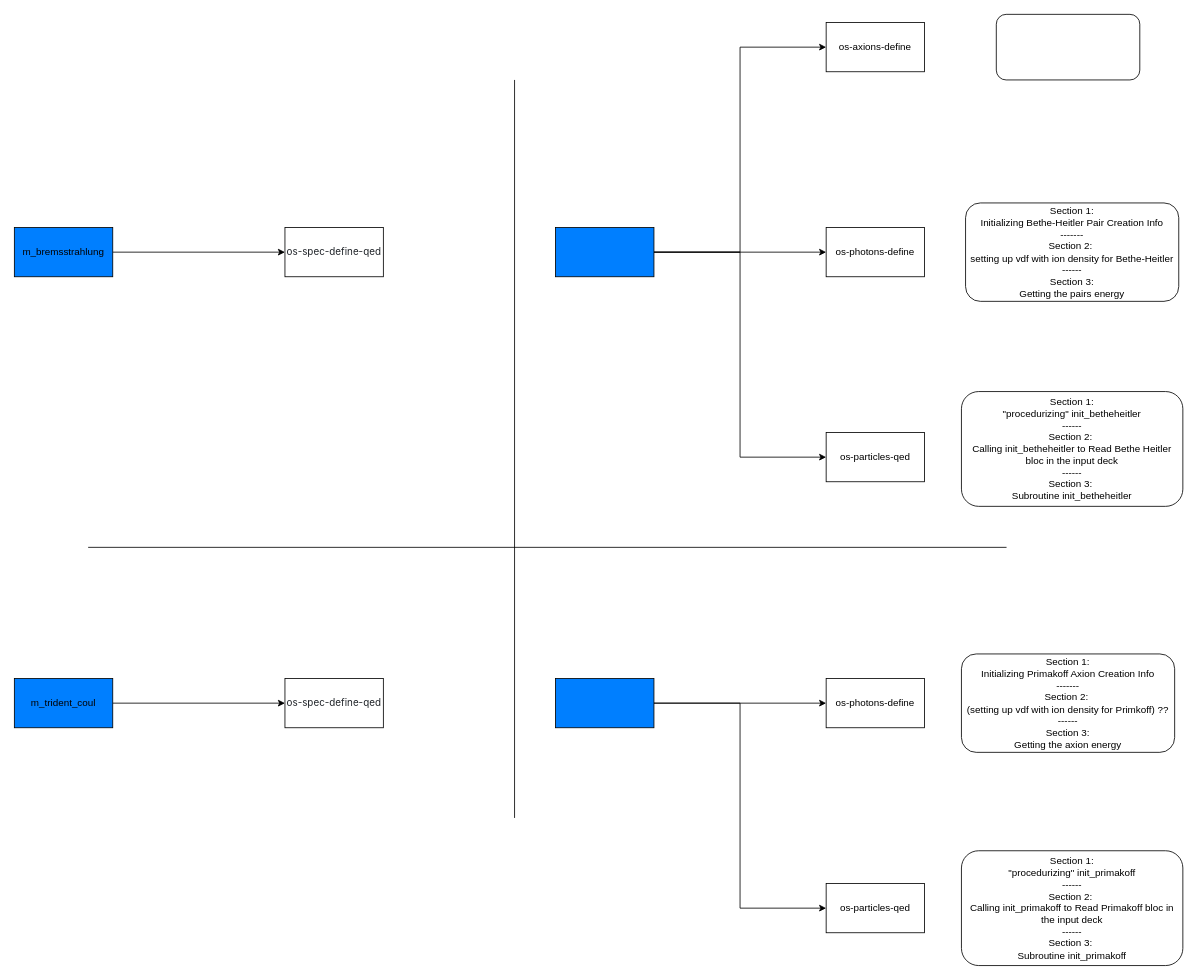
Image size: 1197x980. Some labels were removed from this diagram. The shapes that lost their labels are listed below. From the top down, each one's centre as x and y in pixels, then its label:
point (1067, 47): Useless repetition of the same lines in os-photons-define with no obvious reason
point (604, 252): m_betheheitler
point (604, 703): m_primakoff
